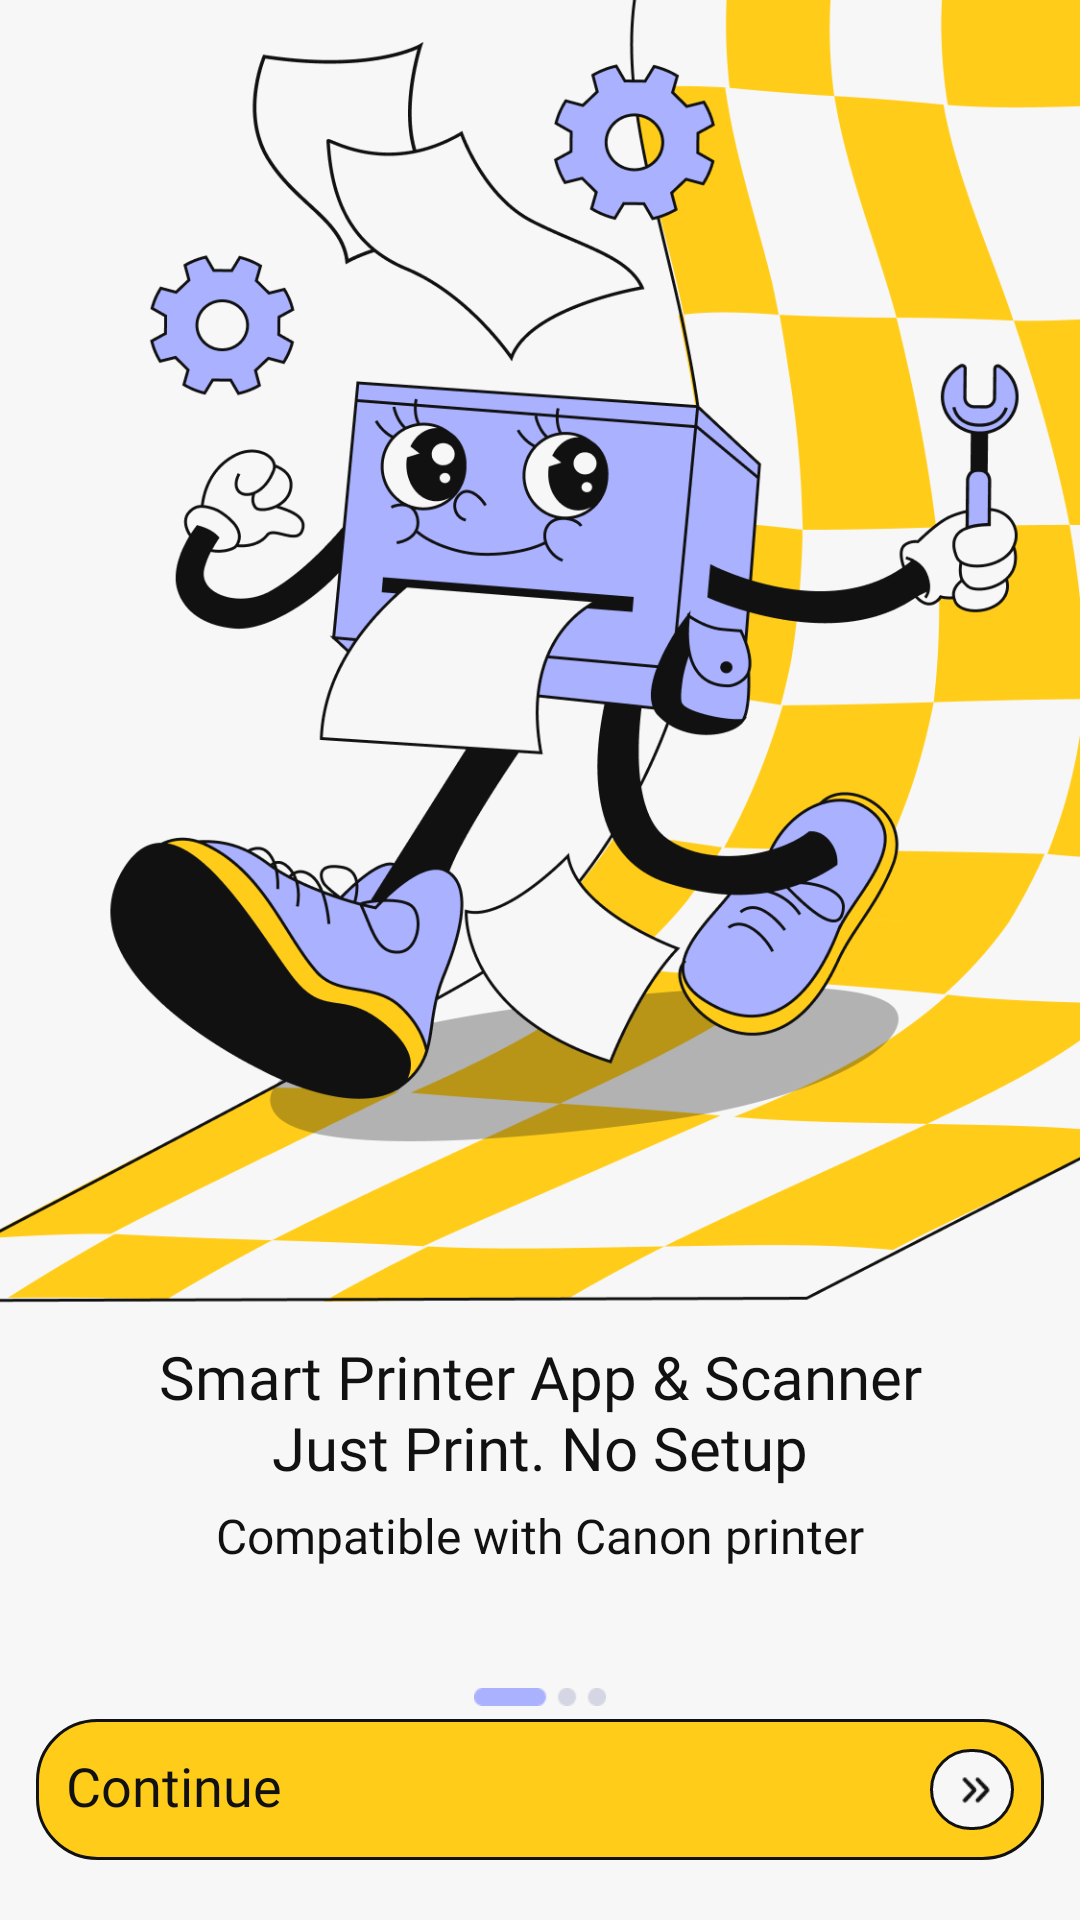

Named icons in this screenshot (1080px×1920px) and their bounding boxes, (x1, y1, x2, y2):
choose printer next: (962, 1777, 990, 1803)
